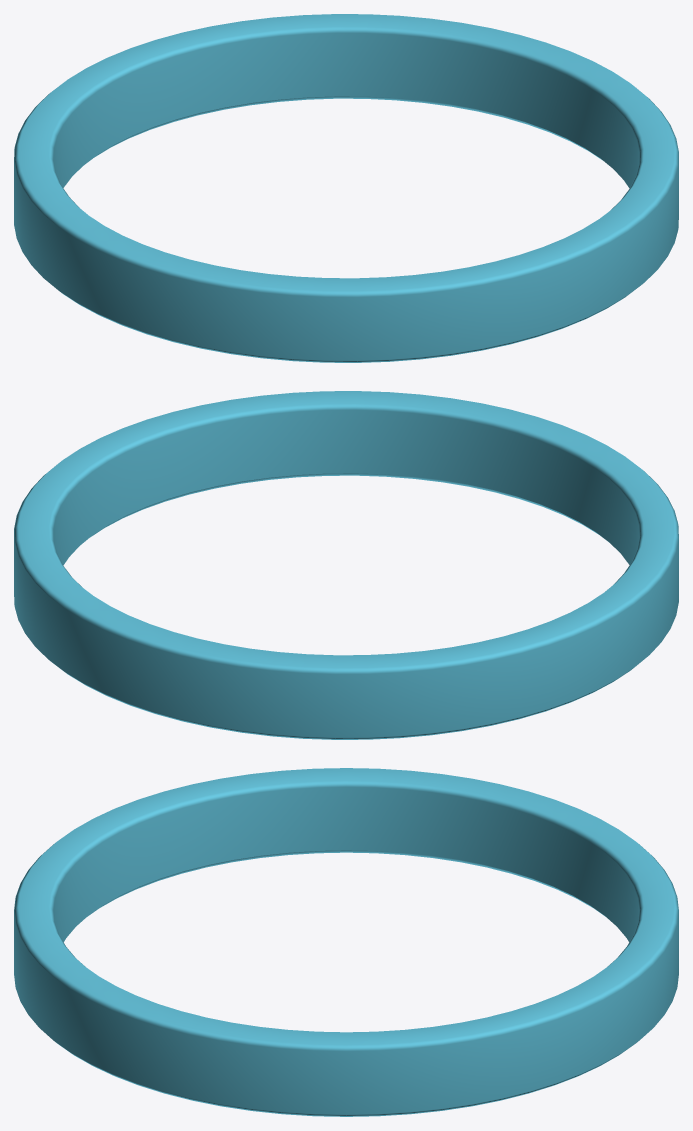
The picture shows the model from 3 angles, top to bottom: view 1: azimuth 30°, elevation 25°; view 2: azimuth 150°, elevation 25°; view 3: azimuth 270°, elevation 25°; orthographic projection.
Visible parts, largest first — view 1: seal_body; view 2: seal_body; view 3: seal_body.
Part boxes in pixels (<box>): seal_body: <box>14,14,678,362</box>; seal_body: <box>14,391,678,739</box>; seal_body: <box>14,768,678,1116</box>.
Bounding box in the file's own units: 0.1064 × 0.0127 × 0.1064.
